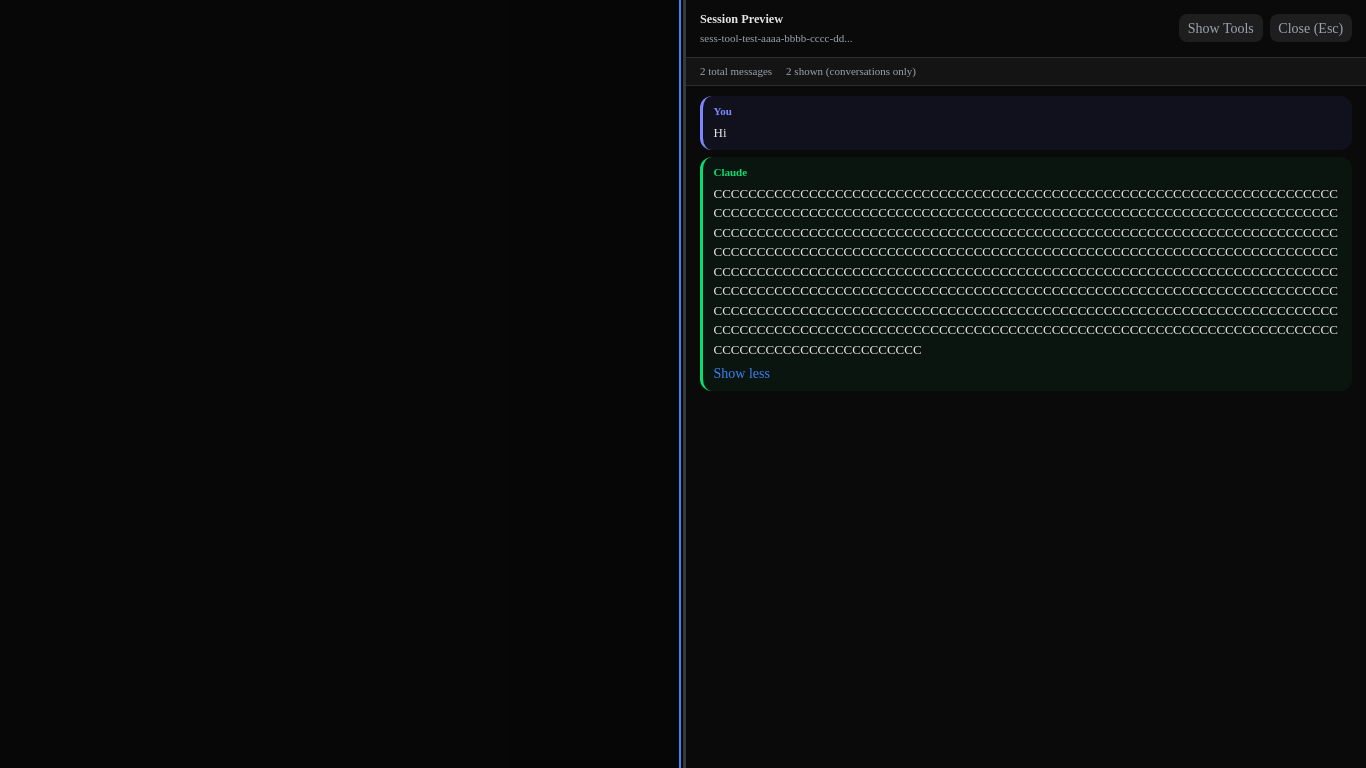
Test: SessionPreview — tool_use message rendering › long content truncation (non-tool messages) › re-expands to full content when "Show more" is clicked after collapse
expect the text "Hi" is shown: met, box [714,125,726,140]
// Collapse first
What coordinates should you click on to do the following:
click the button "Show less"
I would click on:
 (742, 373)
Its box is [714,363,770,384].
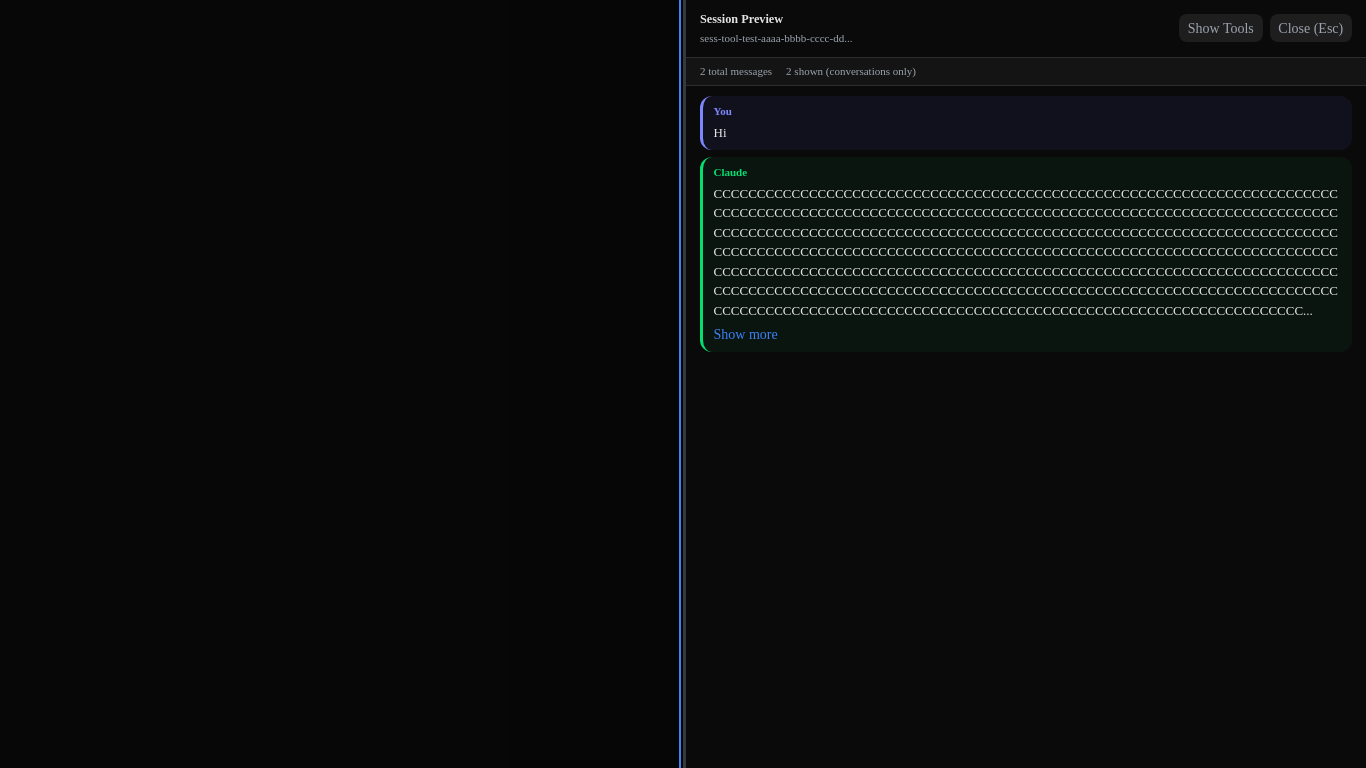
What coordinates should you click on to do the following:
click the button "Show more"
I would click on:
 (746, 334)
Its box is [714,324,778,345].
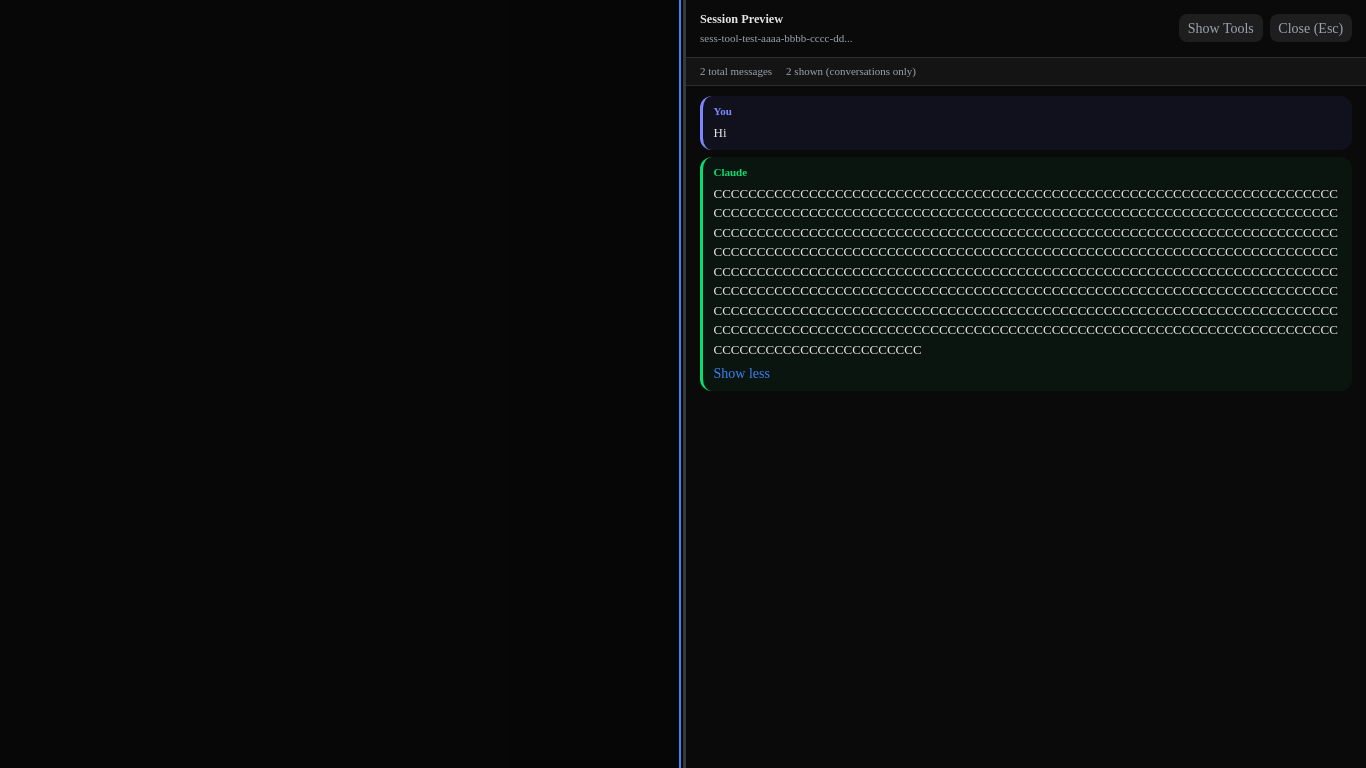
expect the button "Show less" is shown: met, box [714,363,770,384]
